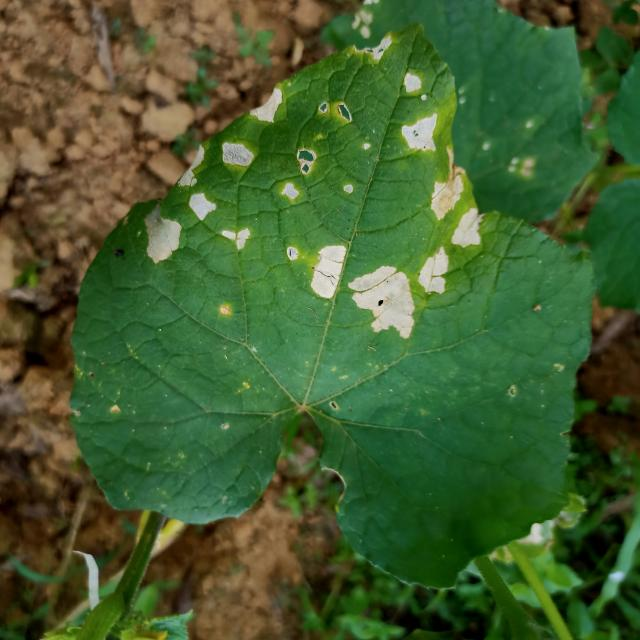disease_cucumber: (310, 243, 414, 341), (142, 195, 253, 261), (431, 179, 484, 249), (182, 141, 252, 189), (399, 75, 440, 154), (281, 144, 317, 199), (418, 244, 449, 294), (254, 92, 287, 124)
